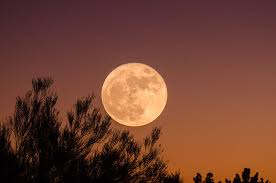moon: (100, 62, 168, 127)
